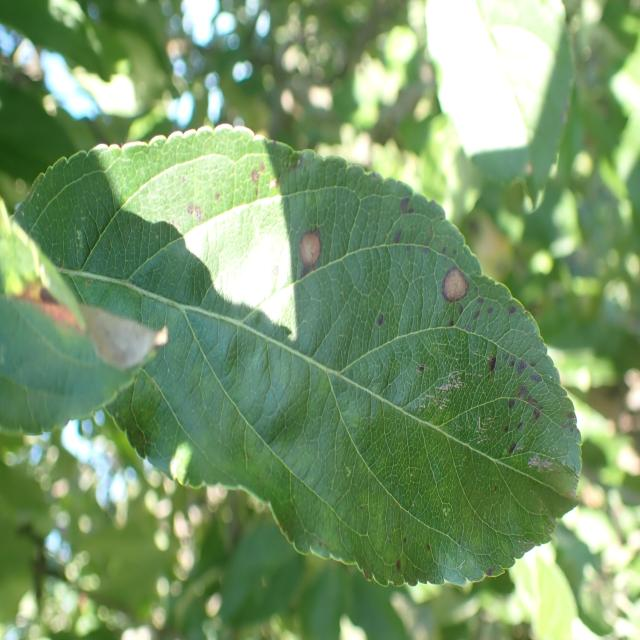frog-eye-leaf-spot: (12, 124, 582, 588)
